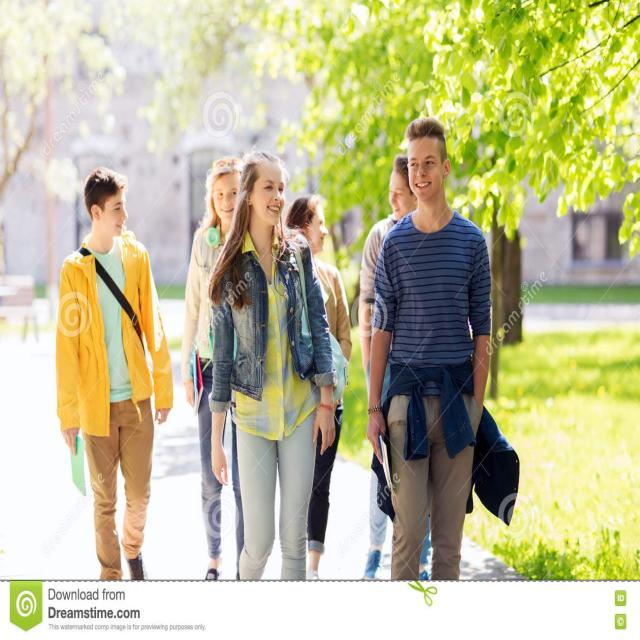body: (207, 145, 340, 639), (367, 114, 494, 580), (53, 165, 175, 583), (356, 152, 433, 581), (179, 152, 247, 580), (285, 193, 353, 581)
